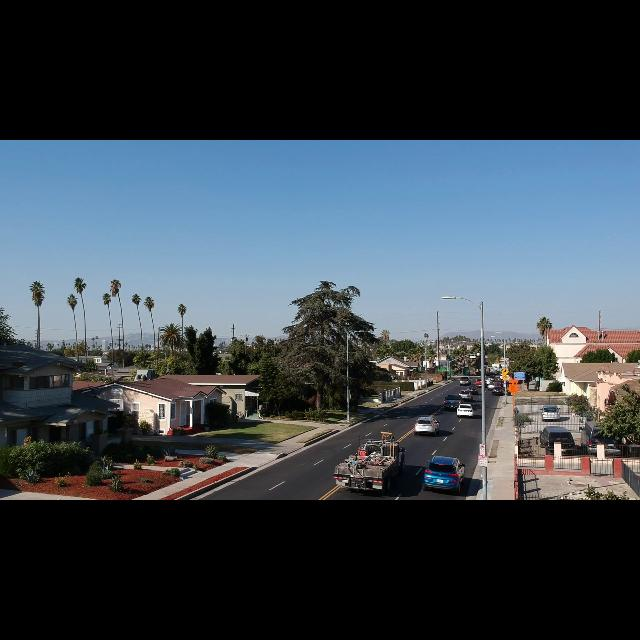car: (423, 456, 464, 492), (581, 422, 621, 455), (540, 426, 575, 454), (415, 417, 439, 435), (443, 394, 463, 410), (542, 405, 559, 420), (457, 404, 474, 417), (459, 390, 473, 401), (492, 386, 504, 396), (487, 380, 496, 389), (468, 386, 478, 394), (460, 377, 470, 385), (474, 379, 482, 386), (485, 377, 491, 384)
truck: (334, 432, 404, 492)
